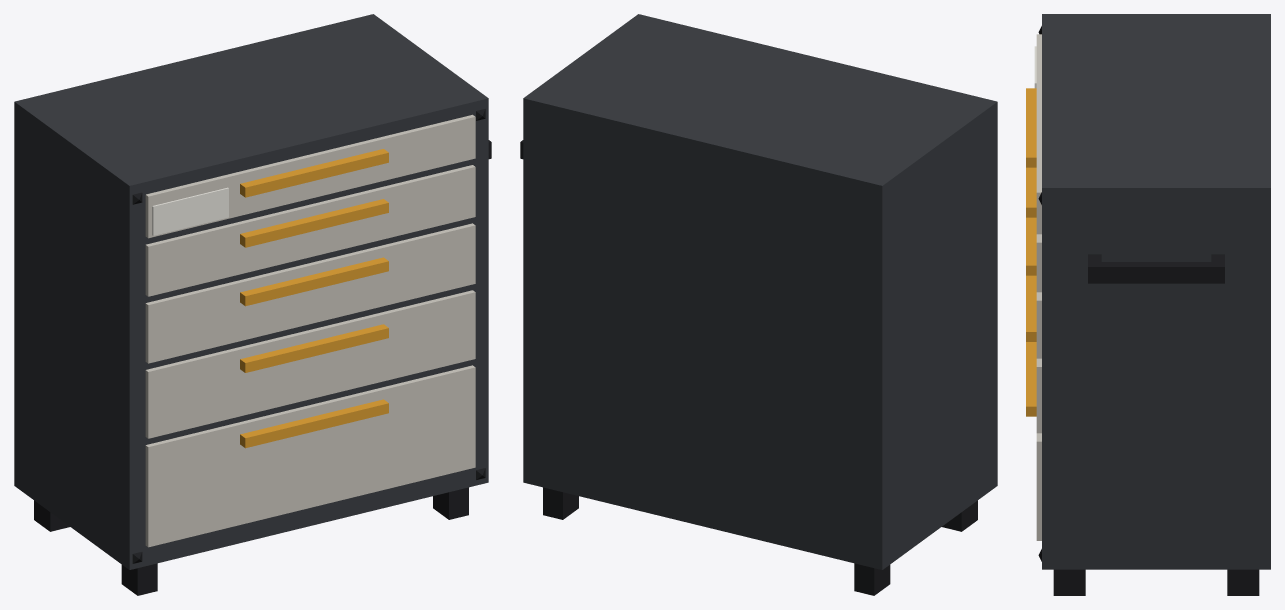
File: dc_tool_chest.glb
3 views of the same model, side by side, from view 1: azimuth 30°, elevation 25°; view 2: azimuth 150°, elevation 25°; view 3: azimuth 270°, elevation 25° (orthographic).
Visible parts, largest first — view 1: dc_tool_chest; view 2: dc_tool_chest; view 3: dc_tool_chest.
Boxes of the visible parts, box(x1,y1,x2,y2) form: dc_tool_chest: box(14, 14, 491, 595); dc_tool_chest: box(520, 14, 997, 595); dc_tool_chest: box(1026, 14, 1270, 595).
Size of what is drawn, in the model's own units: 0.965 by 1 by 0.535.
